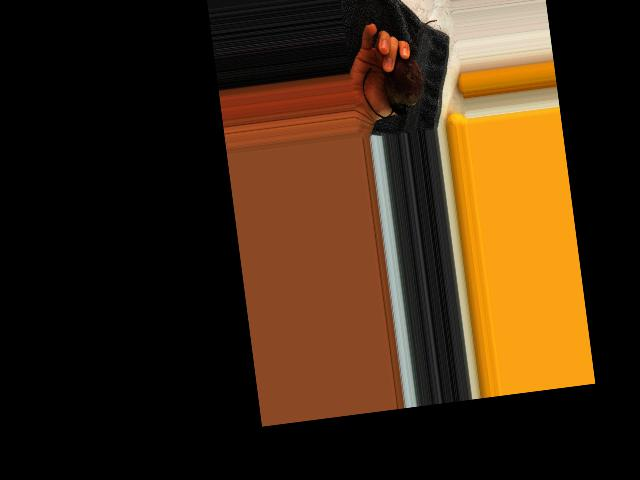beet: (354, 19, 447, 119)
